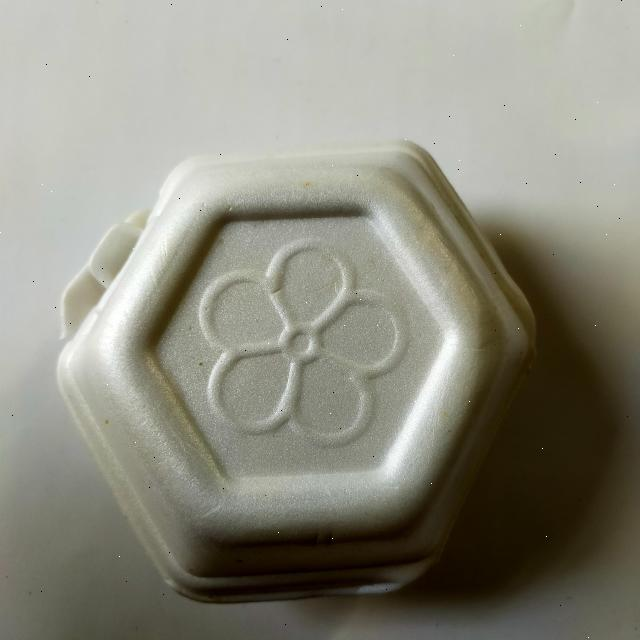styrofoam: (54, 136, 538, 604)
